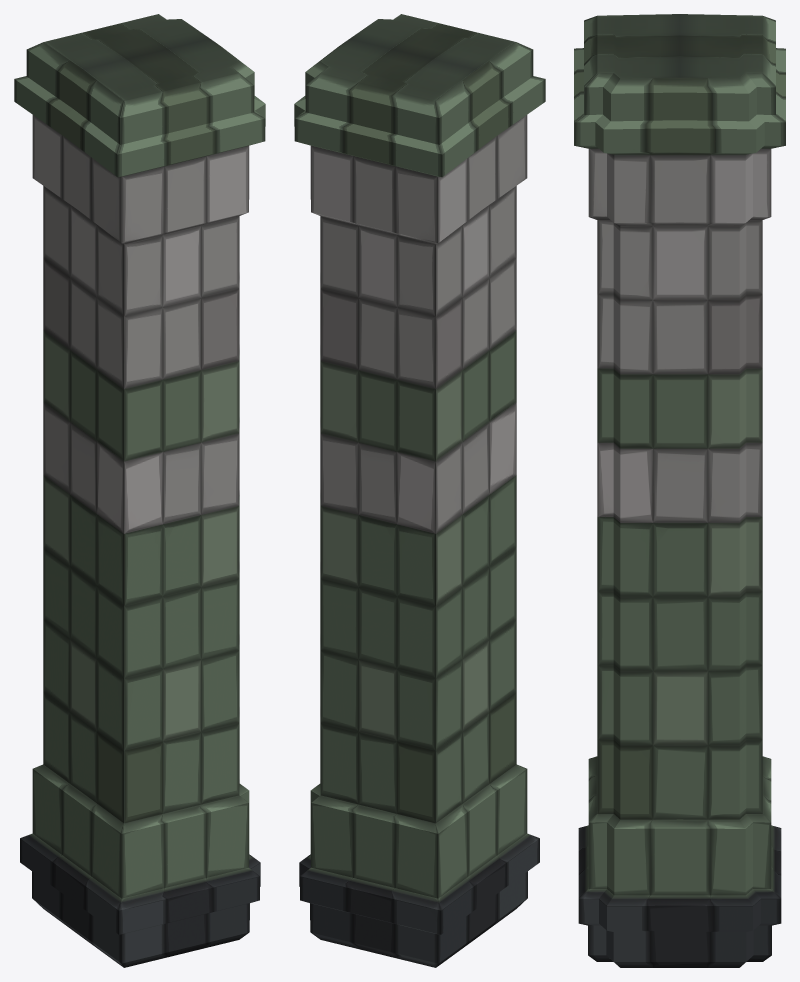
File: SM_Bld_Archway_Pillar_01.fbx
3 views of the same model, side by side, from view 1: azimuth 30°, elevation 25°; view 2: azimuth 150°, elevation 25°; view 3: azimuth 270°, elevation 25° (orthographic). The views are drawn at different scales.
Parts seen in each view (by area): view 1: SM_Bld_Archway_Pillar_01; view 2: SM_Bld_Archway_Pillar_01; view 3: SM_Bld_Archway_Pillar_01.
Part boxes in pixels (box(x1,y1,x2,y2)): SM_Bld_Archway_Pillar_01: box(14, 14, 265, 967); SM_Bld_Archway_Pillar_01: box(294, 14, 545, 967); SM_Bld_Archway_Pillar_01: box(574, 14, 785, 967).
Bounding box in the file's own units: 58.85 × 301 × 64.8.
